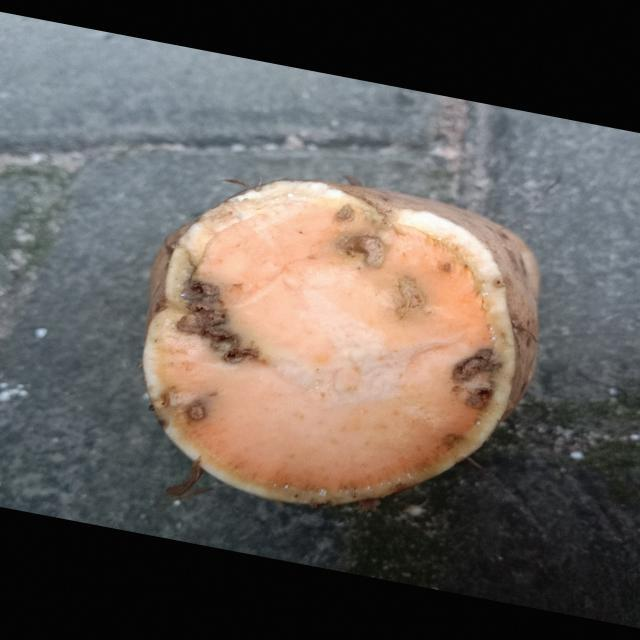Sick Sweet Potato_Tuber Rot: (143, 180, 540, 505)
